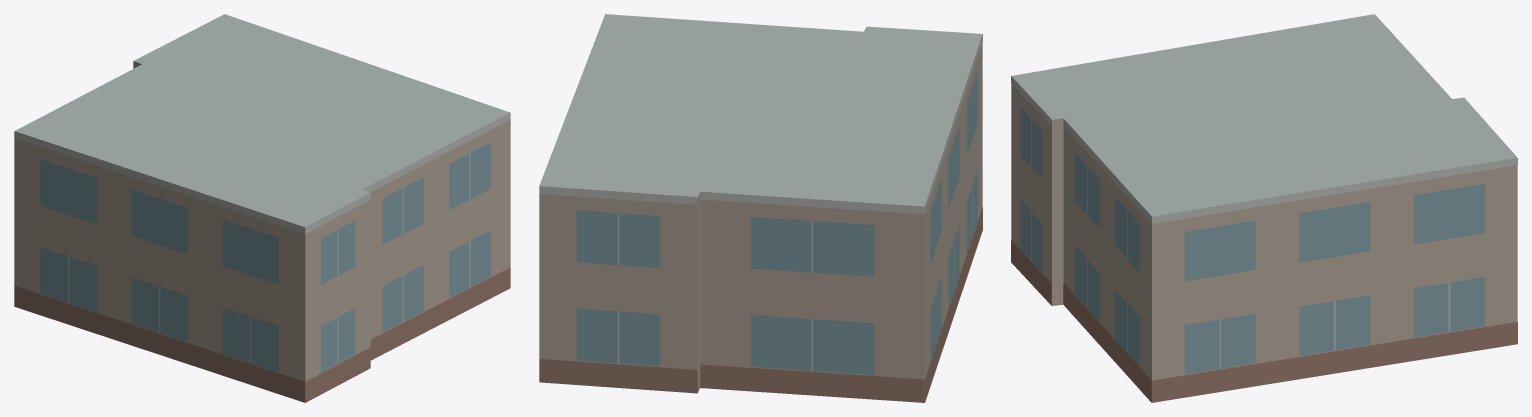
Rendered from survey-upis-33040906.glb.
3 renders of one model, left to right at view 1: azimuth 30°, elevation 25°; view 2: azimuth 150°, elevation 25°; view 3: azimuth 270°, elevation 25°, orthographic. The views are drawn at different scales.
Parts seen in each view (by area): view 1: survey-upis-33040906.tmp; view 2: survey-upis-33040906.tmp; view 3: survey-upis-33040906.tmp.
Part boxes in pixels (x1,y1,x2,y2): survey-upis-33040906.tmp: (14, 14, 510, 402); survey-upis-33040906.tmp: (539, 14, 982, 402); survey-upis-33040906.tmp: (1011, 14, 1517, 402).
Bounding box in the file's own units: 14.23 × 6.1 × 15.04.
